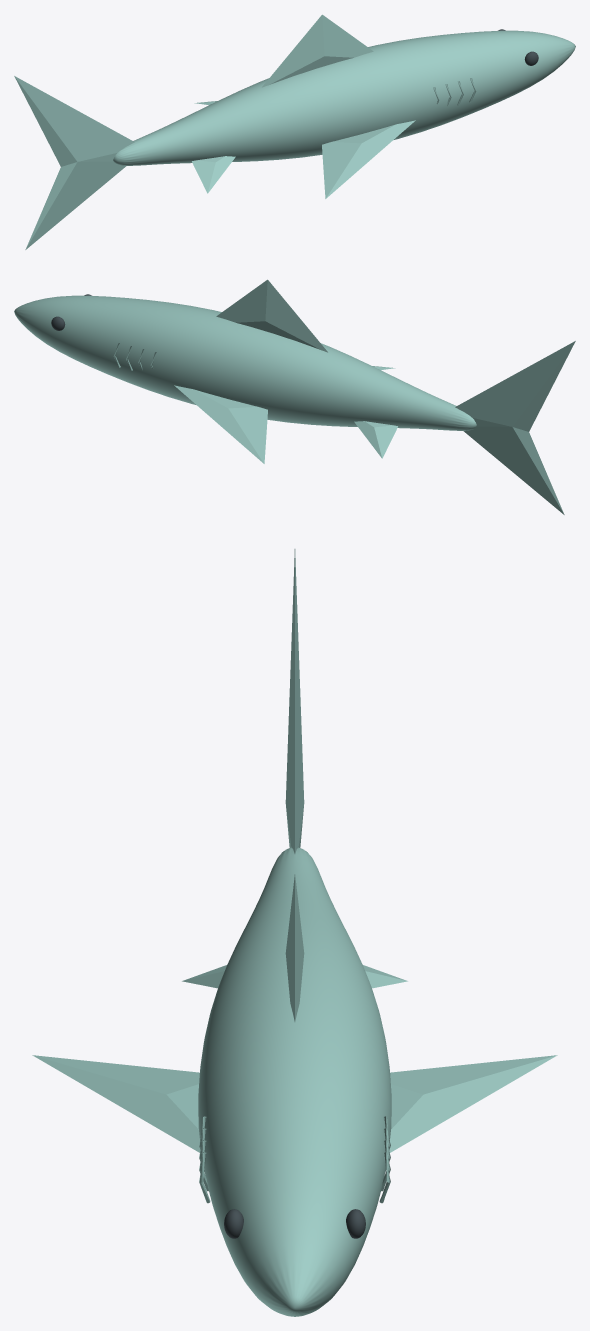
The picture shows the model from 3 angles, top to bottom: view 1: azimuth 30°, elevation 25°; view 2: azimuth 150°, elevation 25°; view 3: azimuth 270°, elevation 25°; orthographic projection. The views are drawn at different scales.
Parts seen in each view (by area): view 1: Body, Tail, Dorsal, Pectoral, Pelvic; view 2: Body, Tail, Dorsal, Pectoral.001, Pelvic.001; view 3: Body, Pectoral.001, Pectoral, Tail, Dorsal.
Boxes of the visible parts, left/top/right/bottom form: Body: left=113, top=30, right=575, bottom=165; Tail: left=14, top=76, right=134, bottom=249; Dorsal: left=262, top=14, right=373, bottom=87; Pectoral: left=322, top=120, right=415, bottom=198; Pelvic: left=192, top=156, right=235, bottom=193; Body: left=14, top=295, right=476, bottom=430; Tail: left=455, top=341, right=575, bottom=514; Dorsal: left=216, top=279, right=327, bottom=352; Pectoral.001: left=174, top=385, right=267, bottom=463; Pelvic.001: left=354, top=421, right=397, bottom=458; Body: left=198, top=847, right=391, bottom=1316; Pectoral.001: left=389, top=1055, right=557, bottom=1152; Pectoral: left=32, top=1055, right=200, bottom=1152; Tail: left=285, top=549, right=304, bottom=853; Dorsal: left=285, top=874, right=304, bottom=1021.
Size of the model in its own units: 252 by 76 by 102.
